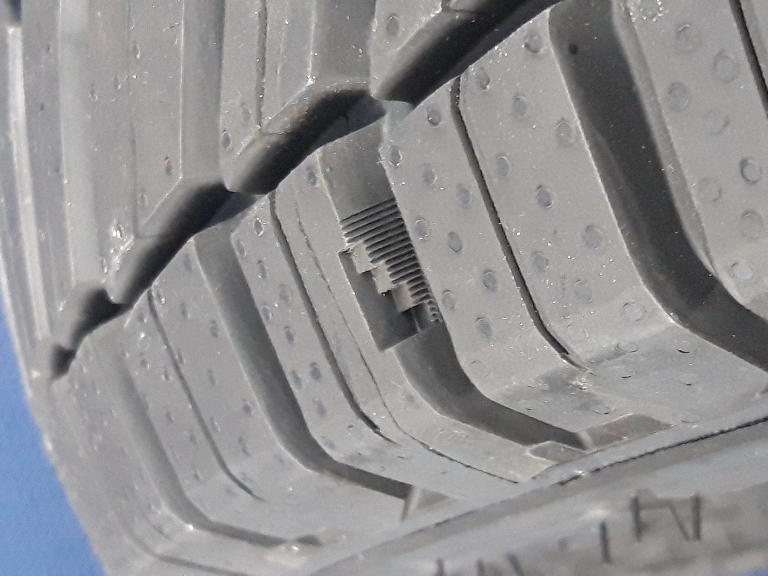temoin:100: (330, 193, 449, 358)
